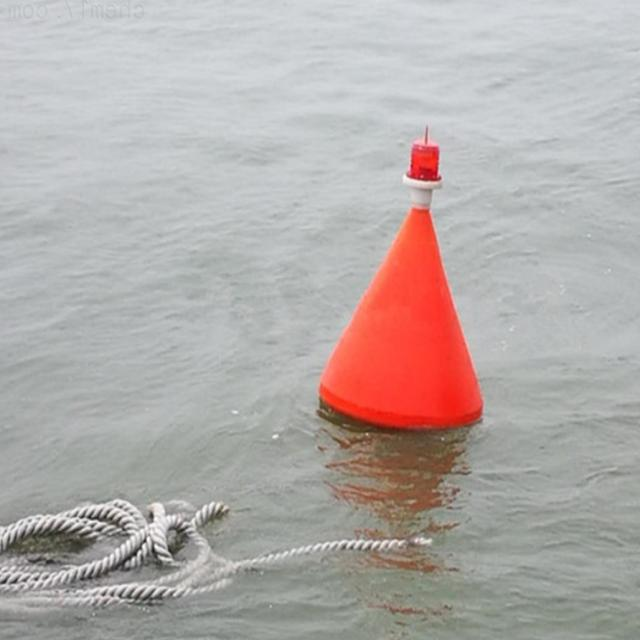buoy: (318, 121, 487, 436)
